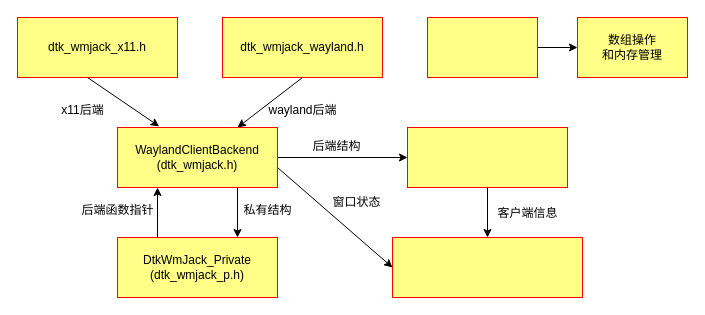
This 705x315 diagram has some shape labels left out. Here are the shapes that lost their labels. From the top down, the centre of each, then its label:
the point at 482,47: dtk_array (dtk_utils.h)
the point at 487,157: ClientManagement (wmjack文件)
the point at 487,267: Dtk_Window_State (wayland_client_management)
